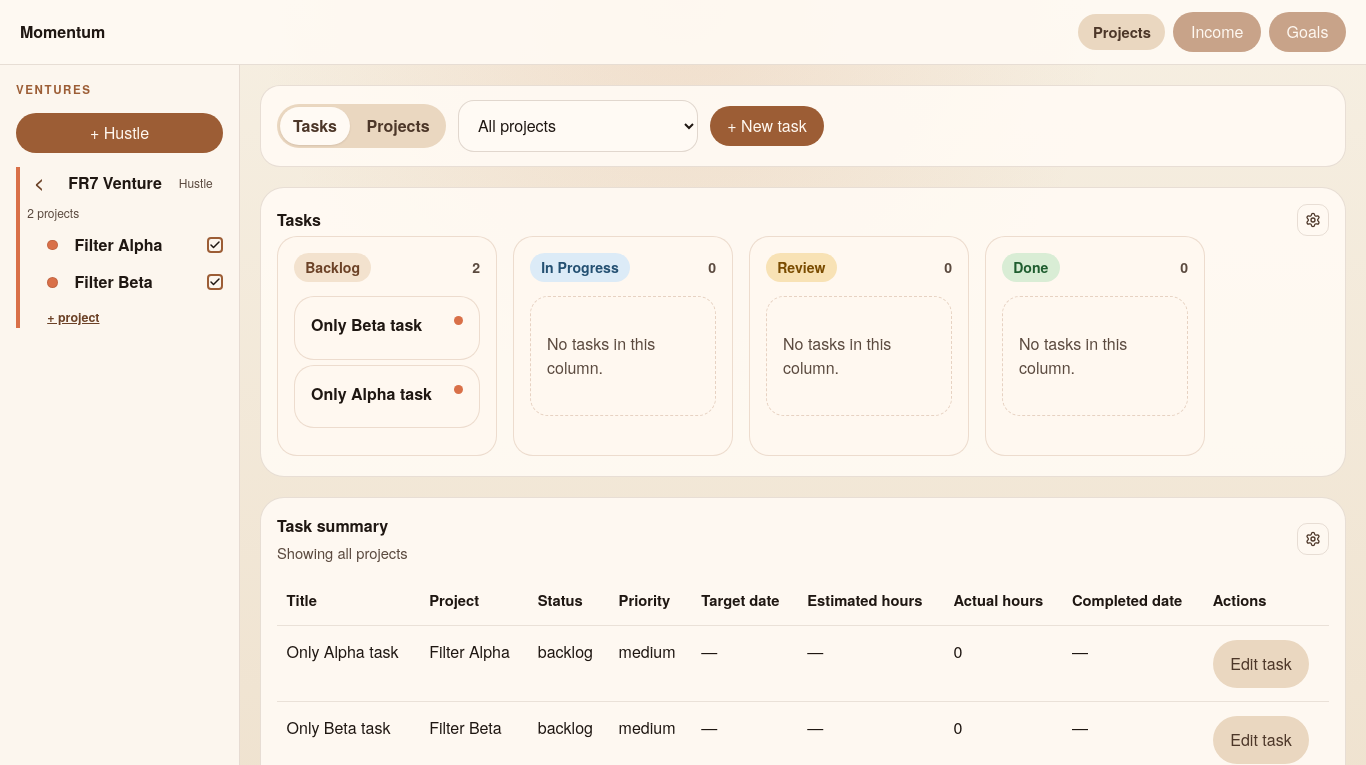
Test: FR-7 task board controller orchestration (integration) › drops stale optimistic task board state when the sidebar project filter changes during an in-flight status update
Expected: the button "Only Alpha task" is shown, top-left (311, 382), bottom-right (432, 406)
Expected: the button "Only Beta task" is shown, top-left (311, 313), bottom-right (422, 337)
Step 1. Click the checkbox named "show filter beta in workspace" → point(215, 282), box top-left (207, 274), bottom-right (223, 290)
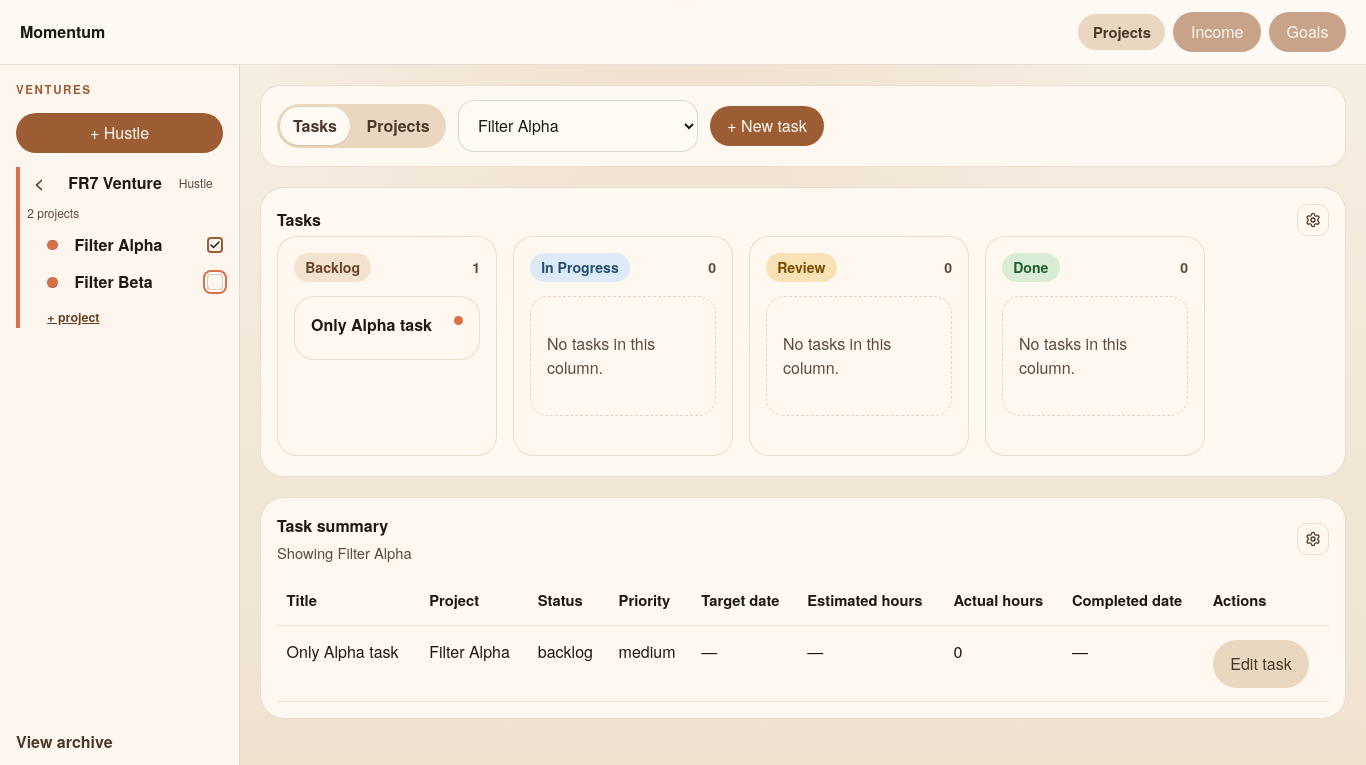
Expected: the button "Only Alpha task" is shown, top-left (311, 313), bottom-right (432, 337)
Expected: the button "Only Beta task" is gone
